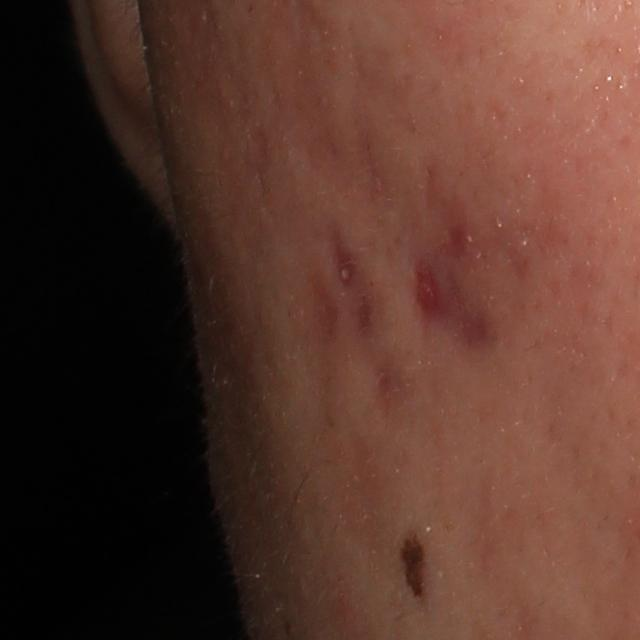atrophic_scar: (410, 259, 451, 330), (333, 238, 360, 288)
nevus: (399, 514, 436, 614)
